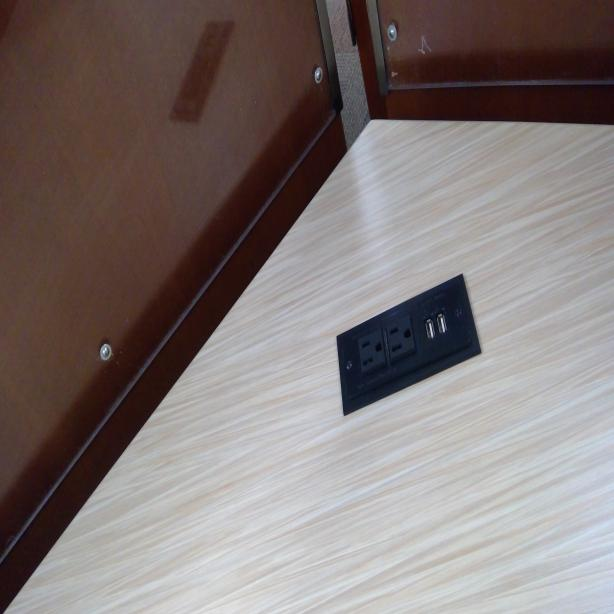typeb: (354, 330, 385, 372), (386, 321, 415, 357)
